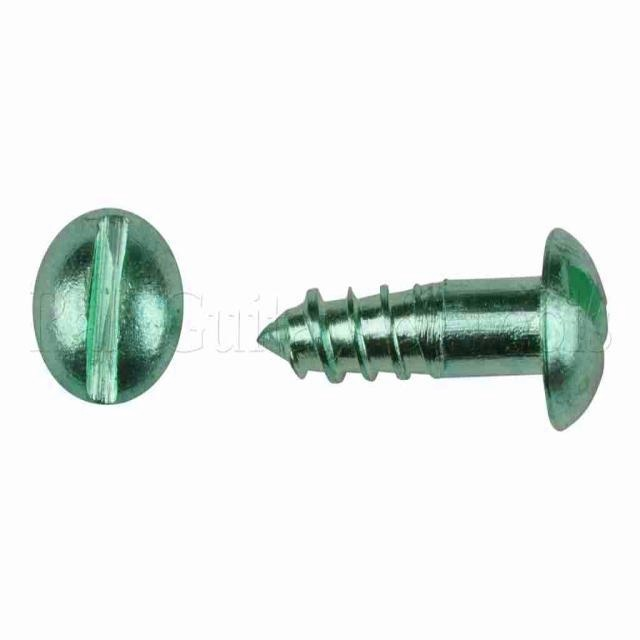duz: (31, 205, 184, 405)
